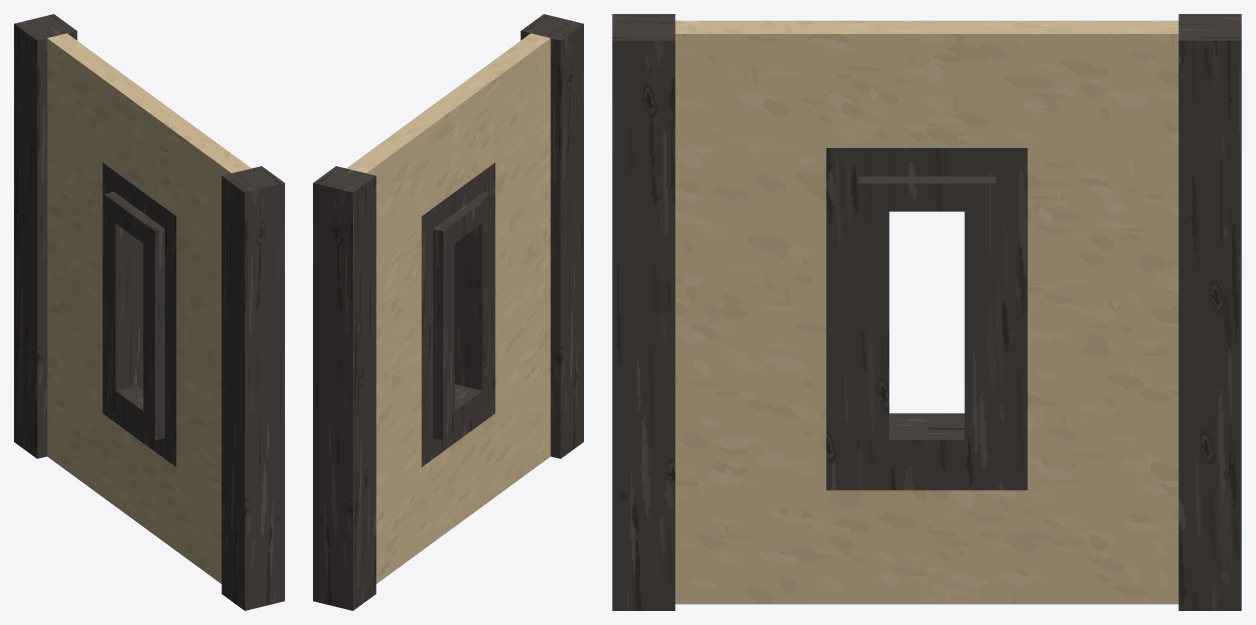
File: wall-window-small.gltf
3 renders of one model, left to right at view 1: azimuth 30°, elevation 25°; view 2: azimuth 150°, elevation 25°; view 3: azimuth 270°, elevation 25°, orthographic. The views are drawn at different scales.
Parts seen in each view (by area): view 1: wall-window-small; view 2: wall-window-small; view 3: wall-window-small.
Part boxes in pixels (x1,y1,x2,y2): wall-window-small: [14, 14, 284, 610]; wall-window-small: [313, 14, 583, 610]; wall-window-small: [612, 14, 1241, 610].
Bounding box in the file's own units: 0.1 × 1 × 1.
2 materials, 2 textured.
